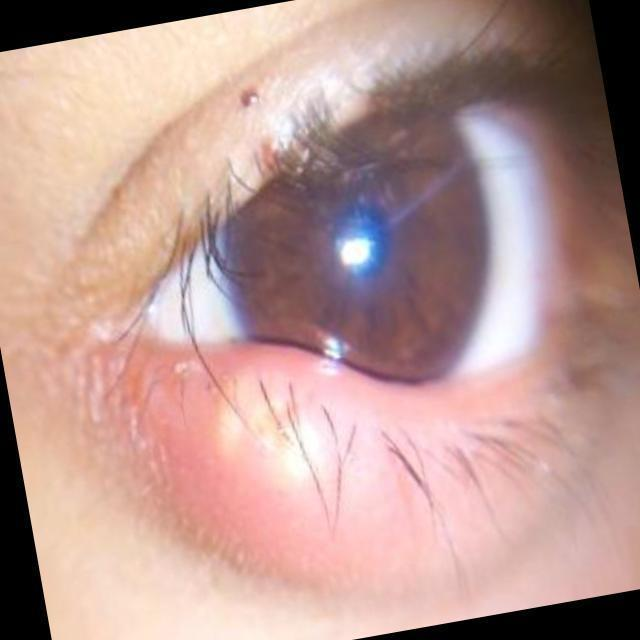Stye: (81, 282, 446, 583)
